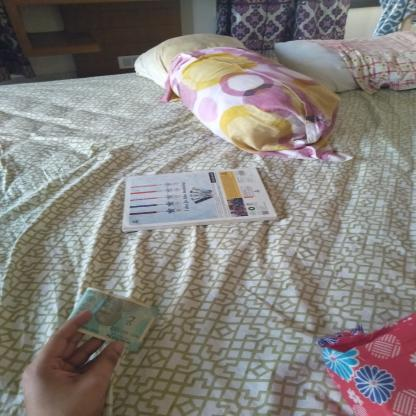New50Front: (70, 289, 153, 348)
